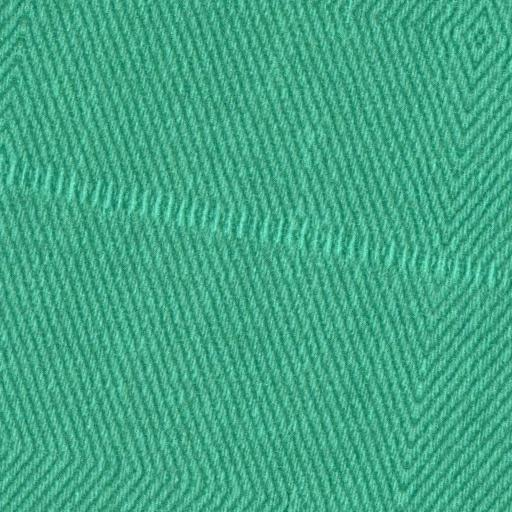slub: (1, 153, 511, 298)
